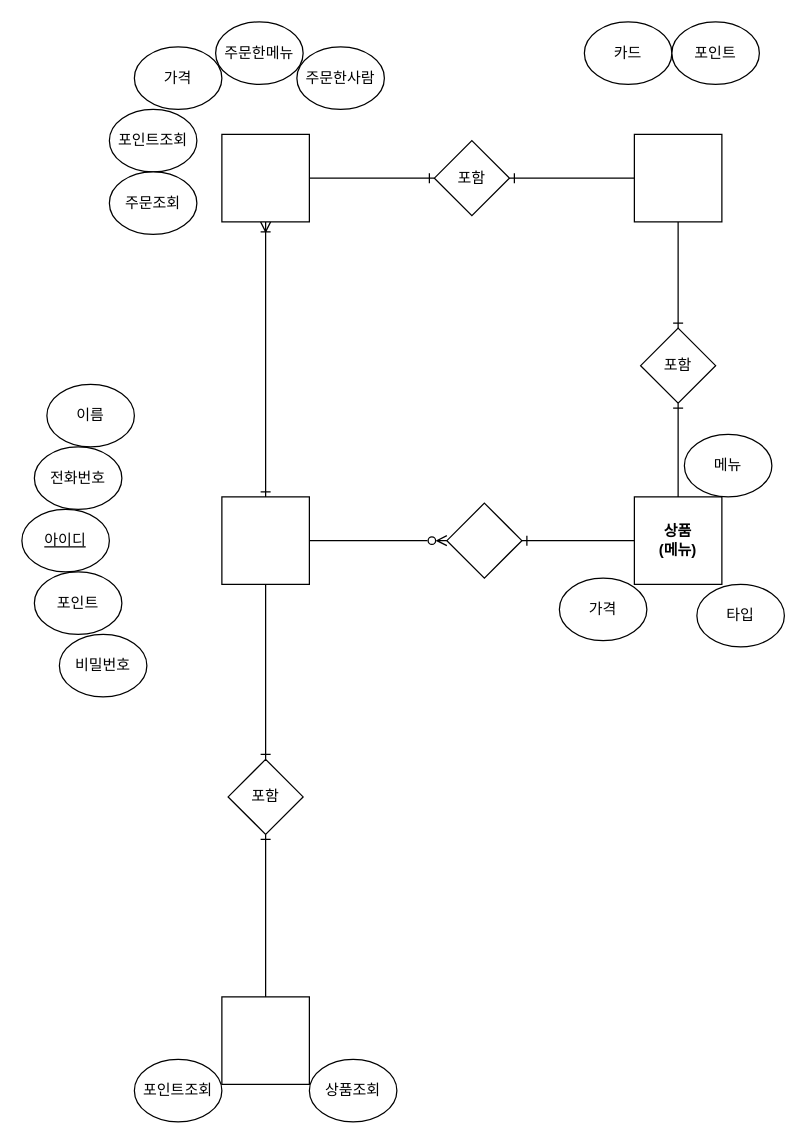
Image size: 806x1144. Some labels were removed from this diagram. The shapes that lost their labels are listed below. From the top down, each one's centre as x and y in pixels, then its label:
At (x=265, y=177): "주문내역".
At (x=677, y=177): "결제".
At (x=265, y=540): "회원".
At (x=484, y=540): "주문".
At (x=265, y=1040): "로그인정보".
